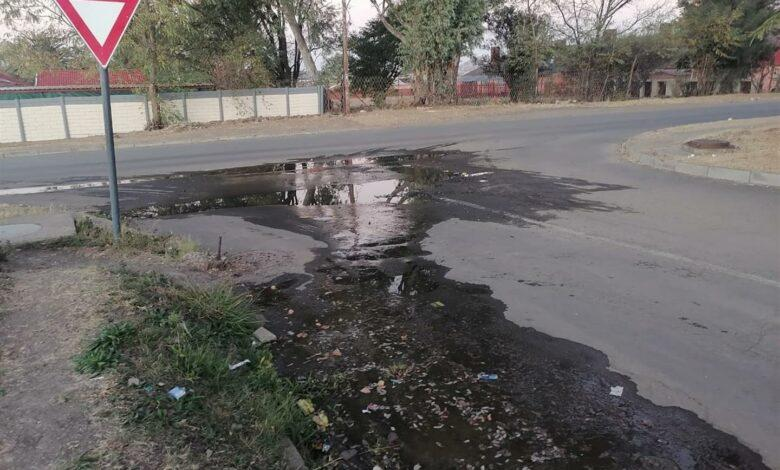water_leak: (205, 147, 454, 241)
